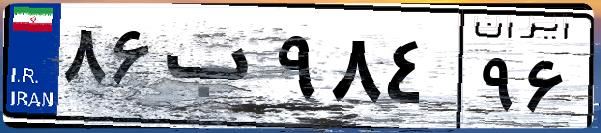4: (385, 28, 445, 110)
6: (525, 38, 570, 115), (110, 28, 158, 98)
8: (330, 28, 385, 110), (57, 26, 110, 100)
9: (270, 28, 330, 110), (475, 38, 525, 113)
ب: (158, 20, 270, 120)
